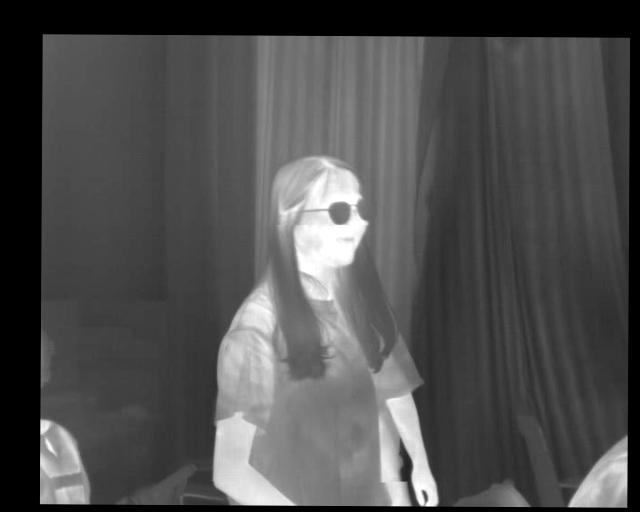face: (276, 155, 371, 267)
